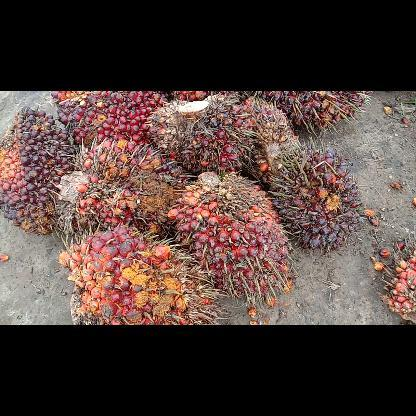TBS masak: (176, 176, 298, 300), (62, 232, 226, 324), (62, 142, 190, 236), (264, 148, 366, 252), (1, 106, 69, 234), (153, 101, 257, 176), (50, 91, 168, 145), (253, 92, 371, 136), (252, 100, 302, 170)
